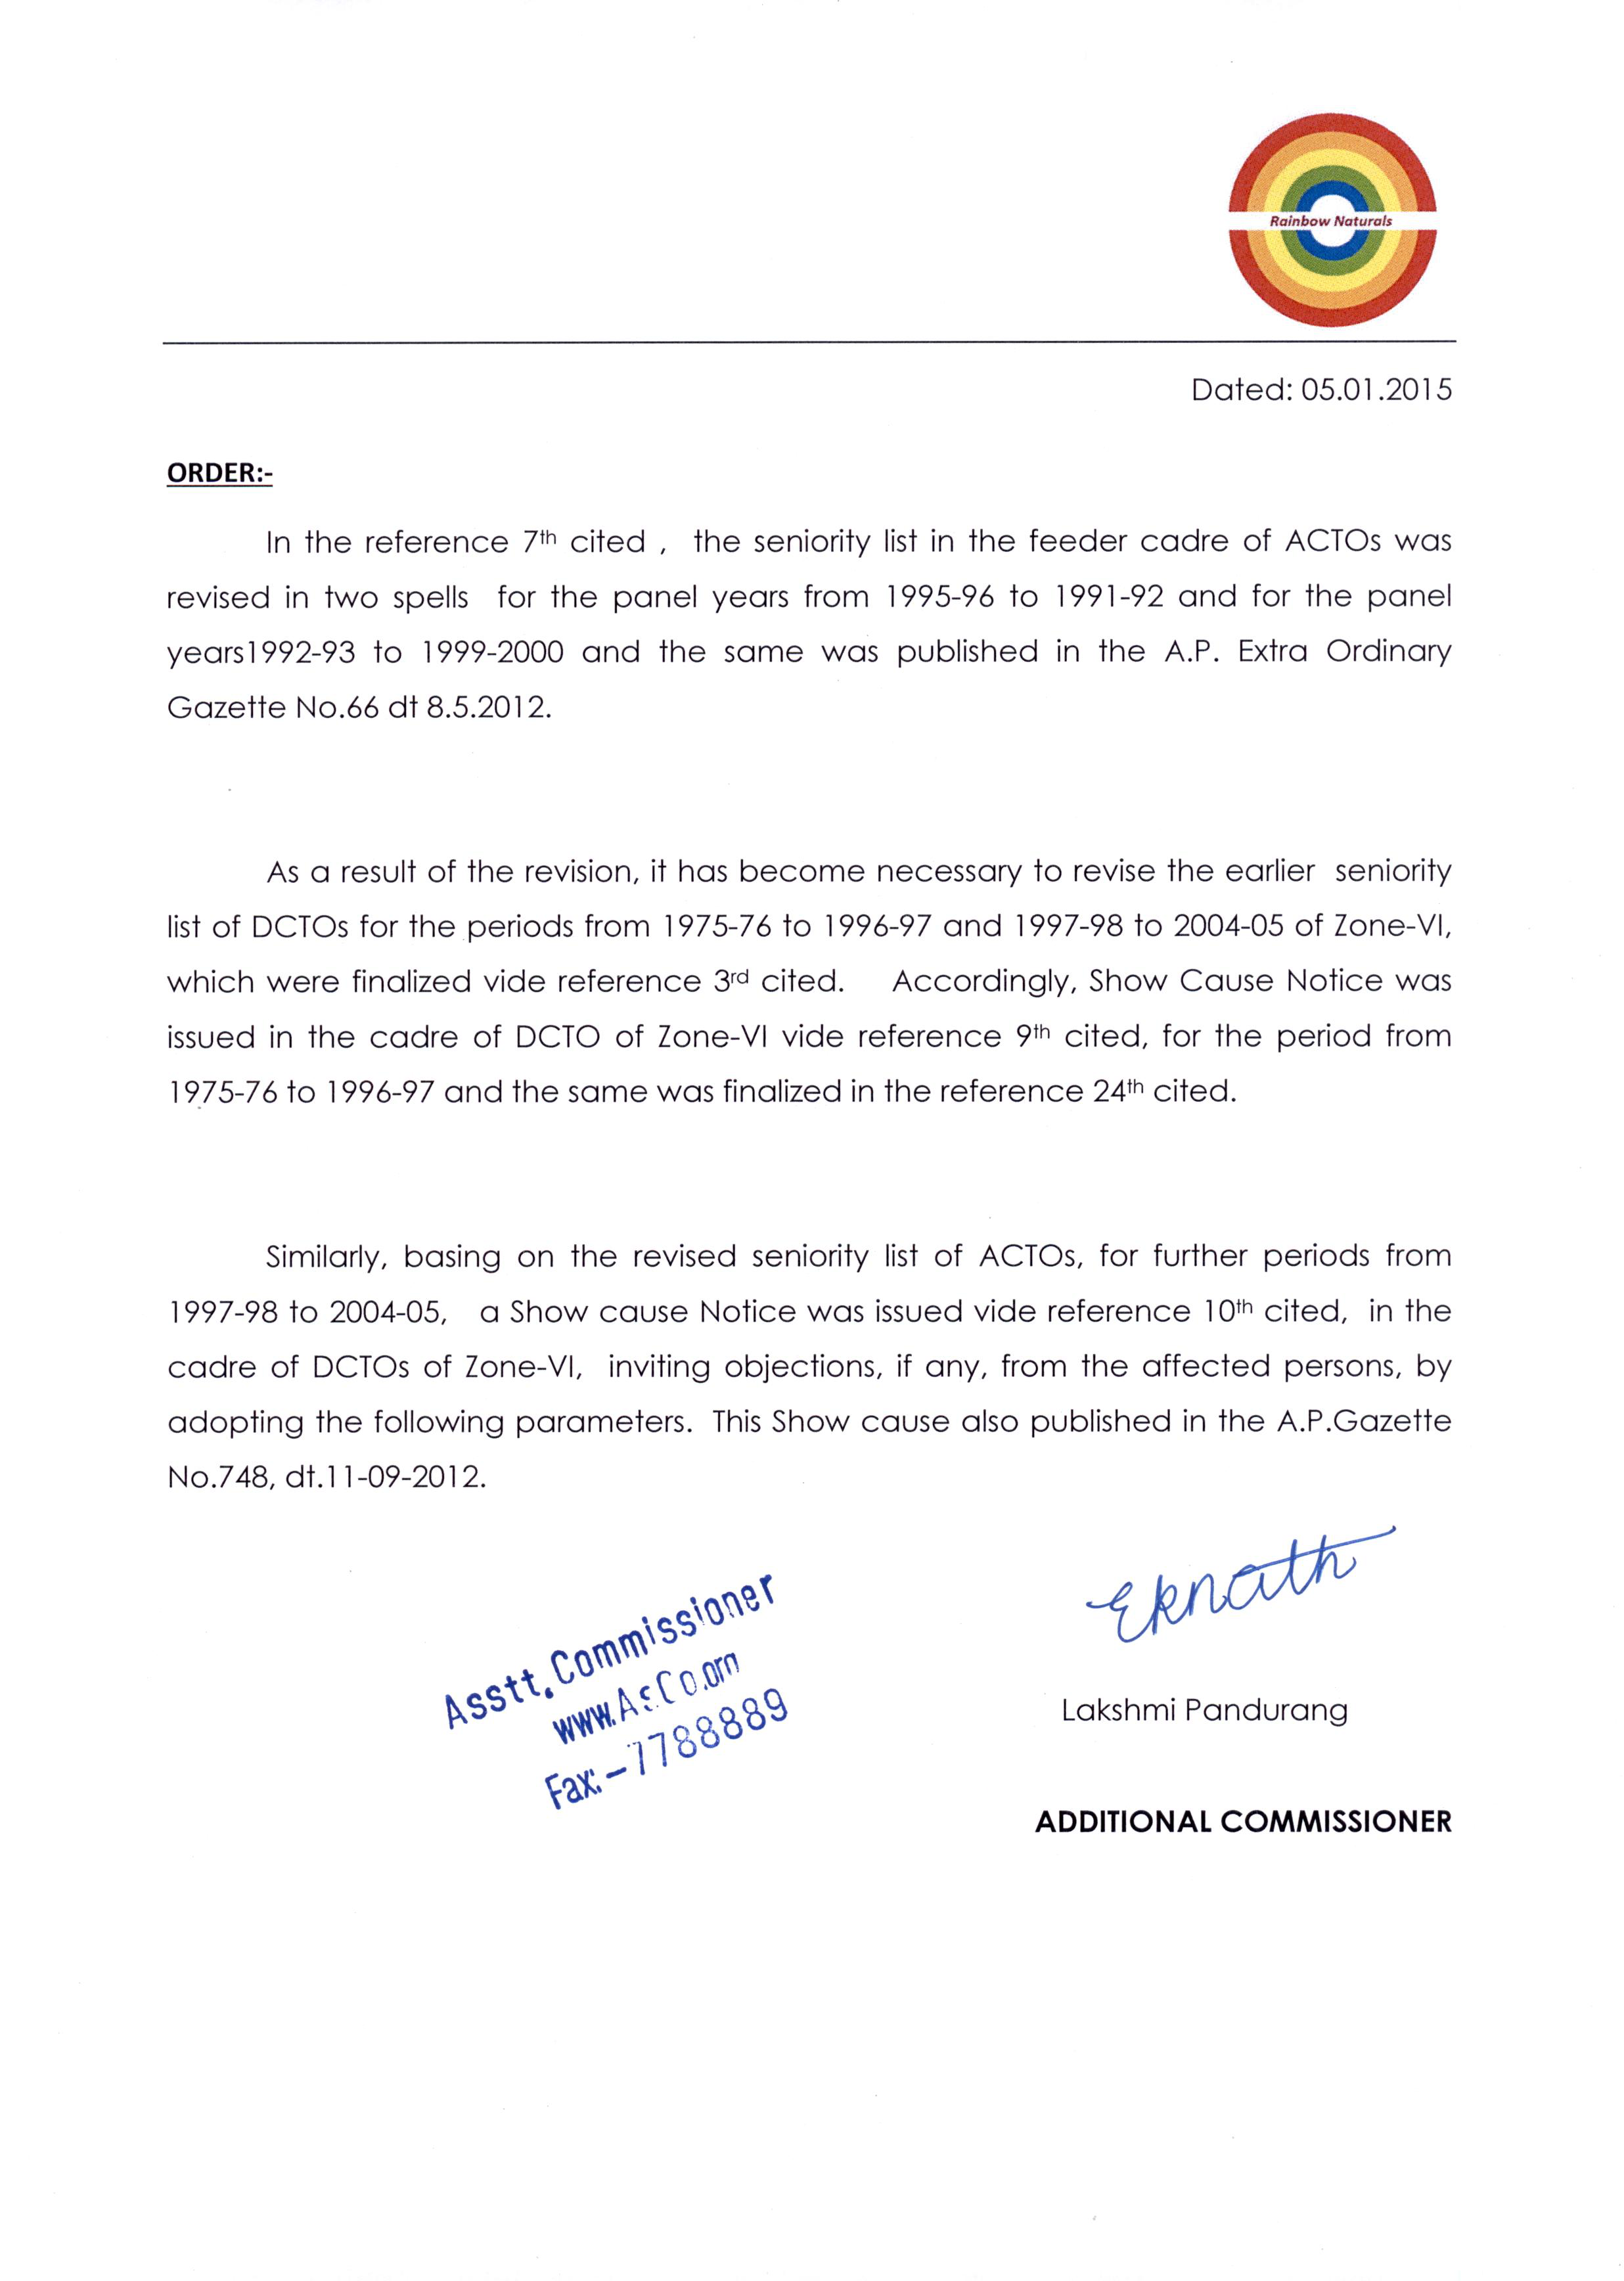Signature: (1072, 1513, 1404, 1654)
